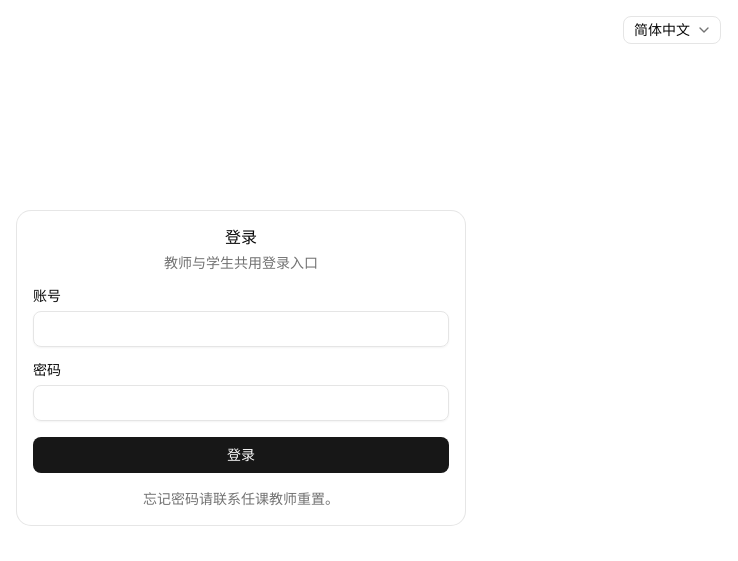
Test: Login › shows 429 message inline and does not redirect
Type "teacher01" into the field labelled "账号".
click(241, 329); type("teacher01")  # box [33,311,449,347]
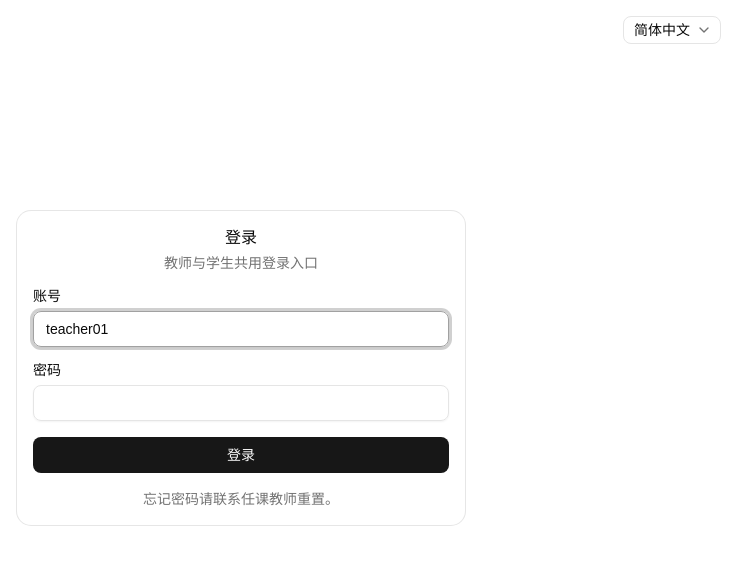
Type "wrong" into the password field labelled "密码".
click(241, 403); type("wrong")  # box [33,385,449,421]
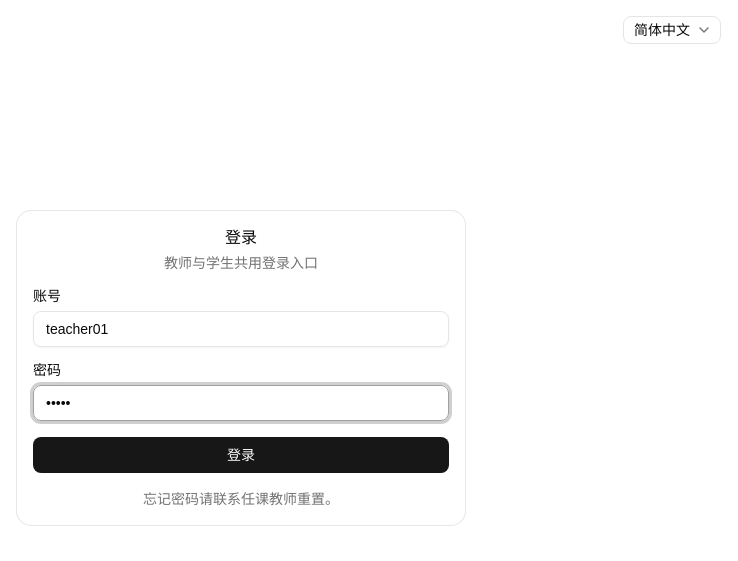
Click the button "登录".
click(241, 455)  # box [33,437,449,473]
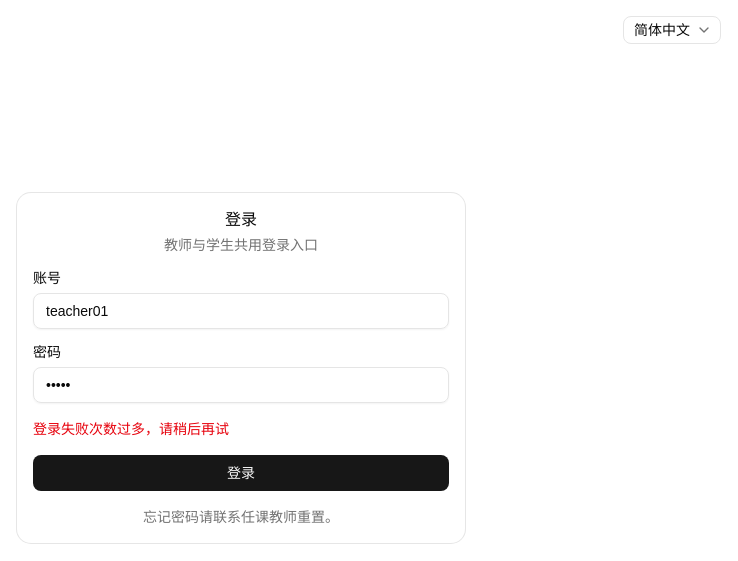
Check: the message reads "登录失败次数过多，请稍后再试", box [33,421,229,437]
